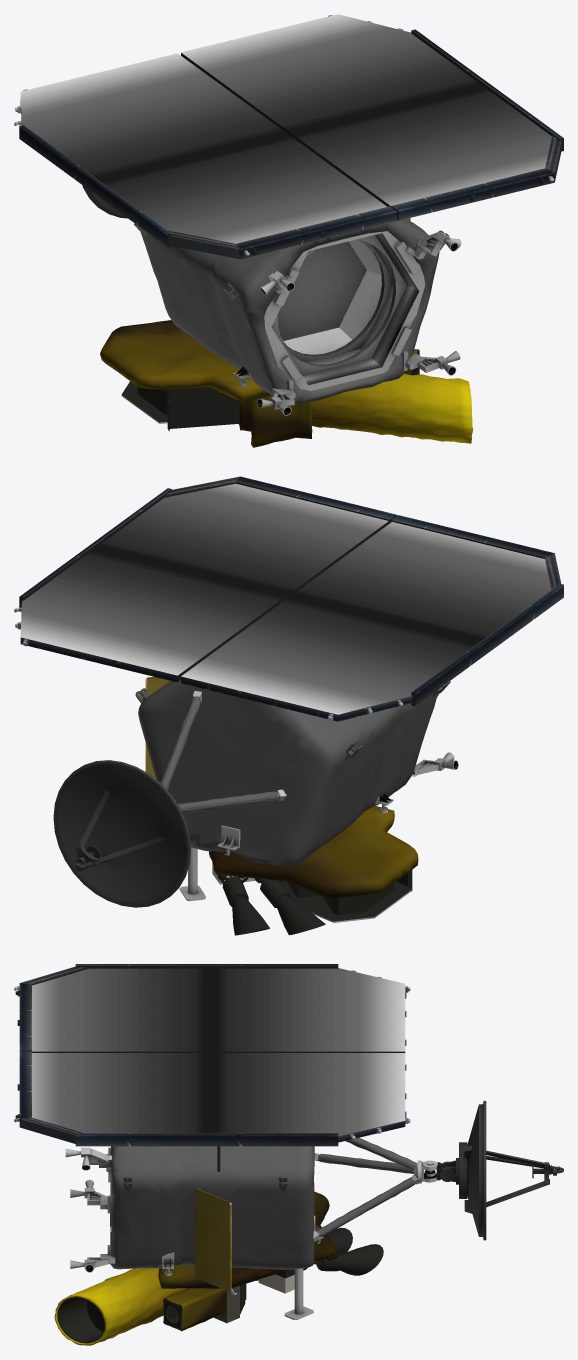
Rendered from deep-impact.glb.
3 renders of one model, top to bottom at view 1: azimuth 30°, elevation 25°; view 2: azimuth 150°, elevation 25°; view 3: azimuth 270°, elevation 25°, orthographic. The views are drawn at different scales.
Visible parts, largest first — view 1: shiny_panels, hole_AO, foil_gold, black_krinkle, tex_01; view 2: shiny_panels, black_krinkle, tex_01, dish_AO, foil_gold, hole_AO; view 3: shiny_panels, black_krinkle, tex_01, foil_gold, dish_AO, hole_AO.
Part boxes in pixels (x1,y1,x2,y2): shiny_panels: (20,14,551,243); hole_AO: (233,231,461,415); foil_gold: (100,320,473,447); black_krinkle: (140,219,439,404); tex_01: (14,15,563,431); shiny_panels: (20,483,551,714); black_krinkle: (138,680,438,866); tex_01: (14,476,563,935); dish_AO: (53,760,190,907); foil_gold: (209,806,418,897); hole_AO: (175,691,458,900); shiny_panels: (32,968,405,1136); black_krinkle: (110,1137,415,1269); tex_01: (14,964,450,1343); foil_gold: (54,1191,335,1345); dish_AO: (440,1100,563,1240); hole_AO: (65,1147,437,1319).
Size of the model in its own units: 2.88 by 1.99 by 3.91.
7 materials, 5 textured.
